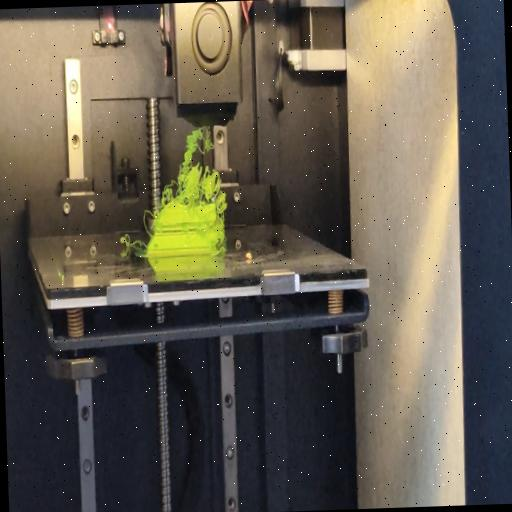spaghetti: (156, 122, 226, 210), (114, 233, 144, 251), (142, 205, 152, 239), (218, 243, 225, 255)
